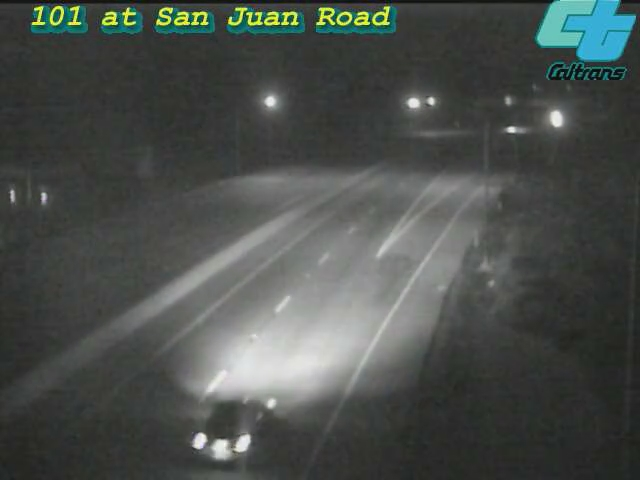vehicle: (171, 374, 281, 480), (491, 104, 541, 154), (528, 93, 578, 143)
